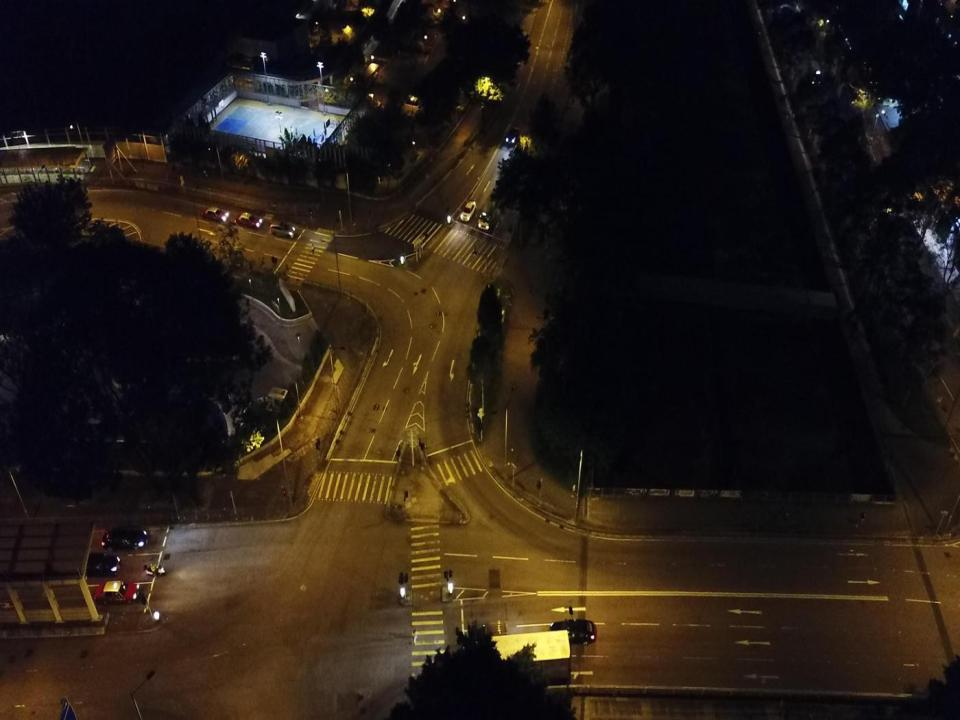bus: (477, 179, 506, 230), (807, 59, 823, 87)
car: (94, 578, 140, 605), (548, 620, 596, 645), (101, 527, 149, 552), (80, 552, 122, 579), (269, 218, 297, 240), (234, 210, 264, 229), (200, 205, 230, 223), (460, 198, 478, 222), (504, 124, 521, 144)
truck: (461, 630, 570, 696)
